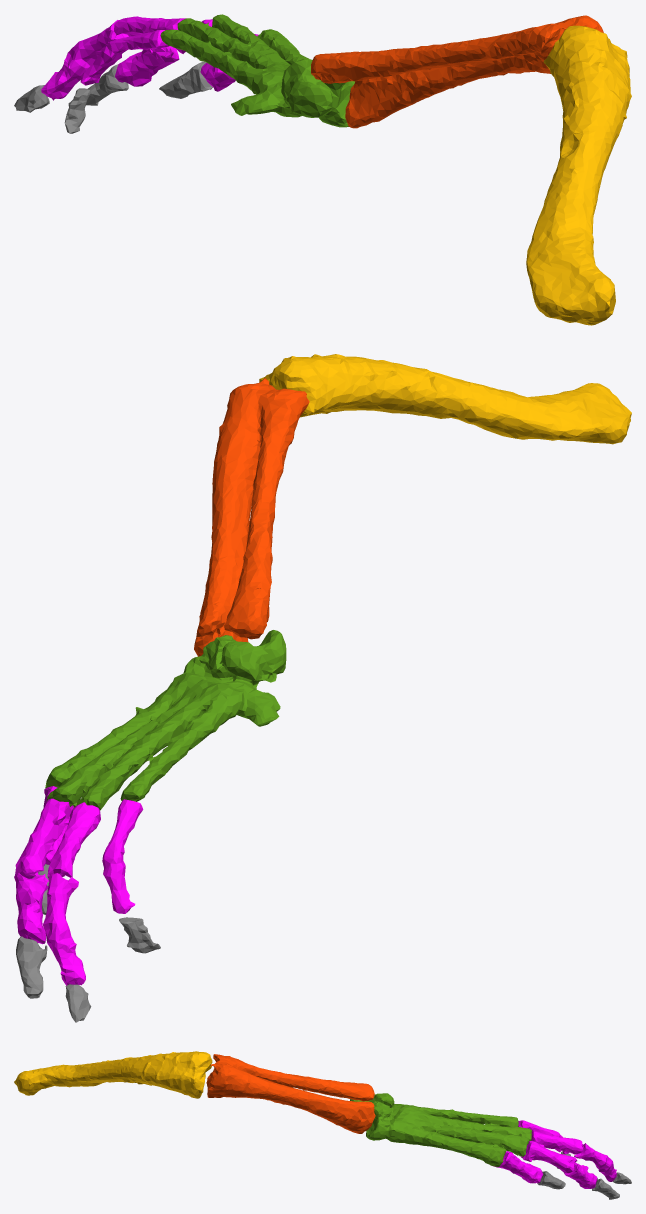
File: foot_left.glb
3 views of the same model, one above another, from view 1: azimuth 30°, elevation 25°; view 2: azimuth 150°, elevation 25°; view 3: azimuth 270°, elevation 25° (orthographic). The views are drawn at different scales.
Visible parts, largest first — view 1: Shape_IndexedFaceSet, Shape_IndexedFaceSet.004, Shape_IndexedFaceSet.001, Shape_IndexedFaceSet.003, Shape_IndexedFaceSet.002; view 2: Shape_IndexedFaceSet.004, Shape_IndexedFaceSet.001, Shape_IndexedFaceSet, Shape_IndexedFaceSet.003, Shape_IndexedFaceSet.002; view 3: Shape_IndexedFaceSet.001, Shape_IndexedFaceSet.004, Shape_IndexedFaceSet, Shape_IndexedFaceSet.003, Shape_IndexedFaceSet.002.
Boxes of the visible parts, x1=… form: Shape_IndexedFaceSet: x1=526, y1=25, x2=631, y2=325; Shape_IndexedFaceSet.004: x1=311, y1=15, x2=603, y2=128; Shape_IndexedFaceSet.001: x1=160, y1=14, x2=354, y2=127; Shape_IndexedFaceSet.003: x1=41, y1=16, x2=258, y2=100; Shape_IndexedFaceSet.002: x1=14, y1=61, x2=212, y2=133; Shape_IndexedFaceSet.004: x1=194, y1=378, x2=309, y2=656; Shape_IndexedFaceSet.001: x1=45, y1=630, x2=286, y2=810; Shape_IndexedFaceSet: x1=259, y1=354, x2=631, y2=444; Shape_IndexedFaceSet.003: x1=14, y1=786, x2=143, y2=985; Shape_IndexedFaceSet.002: x1=16, y1=864, x2=160, y2=1022; Shape_IndexedFaceSet.001: x1=350, y1=1093, x2=531, y2=1166; Shape_IndexedFaceSet.004: x1=206, y1=1054, x2=375, y2=1133; Shape_IndexedFaceSet: x1=14, y1=1051, x2=212, y2=1098; Shape_IndexedFaceSet.003: x1=494, y1=1120, x2=616, y2=1188; Shape_IndexedFaceSet.002: x1=537, y1=1151, x2=631, y2=1199.
Size of the model in its own units: 0.0133 by 0.0175 by 0.0548.
